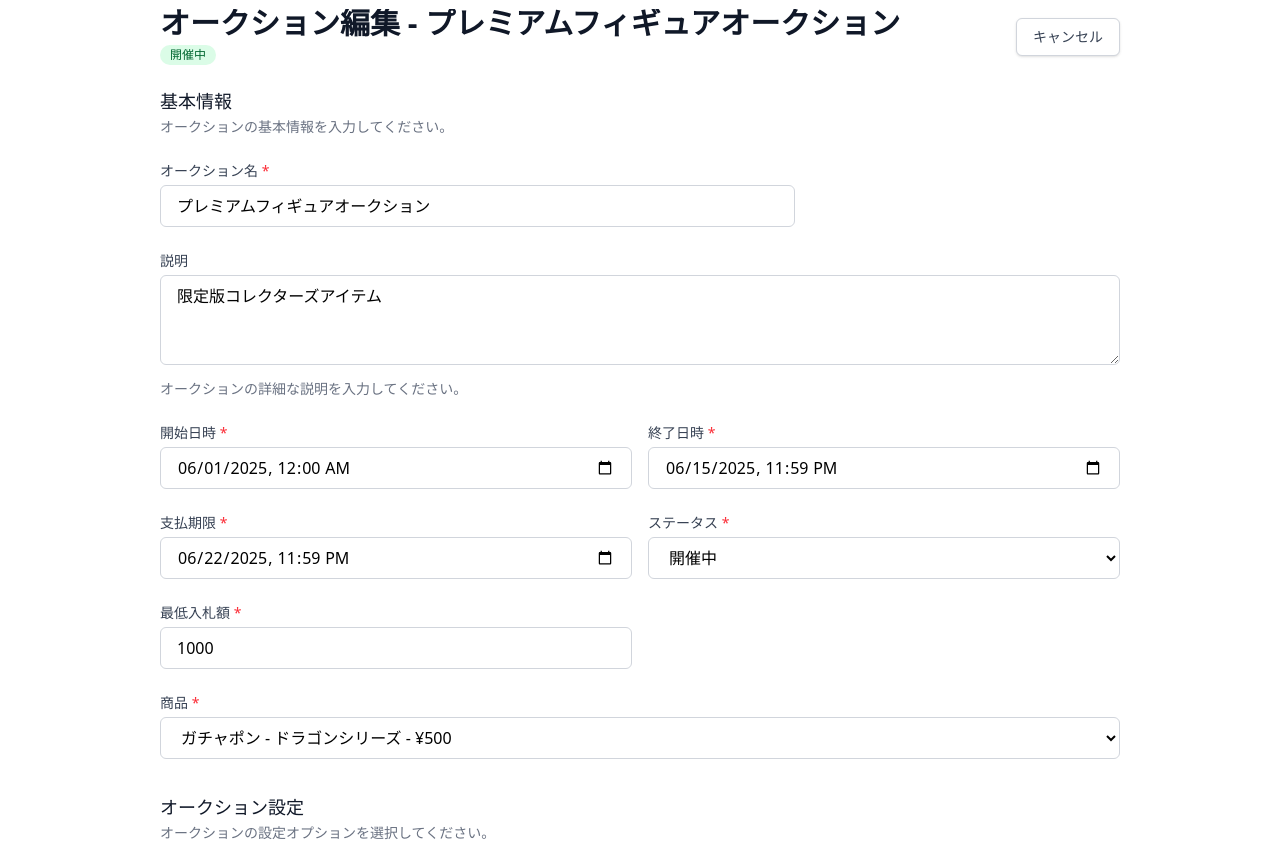
Test: オークション編集ページ › handleSubmit機能 › 最低入札額が1未満の場合、エラーメッセージが表示されること
The width and height of the screenshot is (1280, 868).
Replace the text in the number field labelled "最低入札額 *" with "0" at coordinates (396, 648), box top-left (160, 627), bottom-right (632, 669)
(page scrolled)
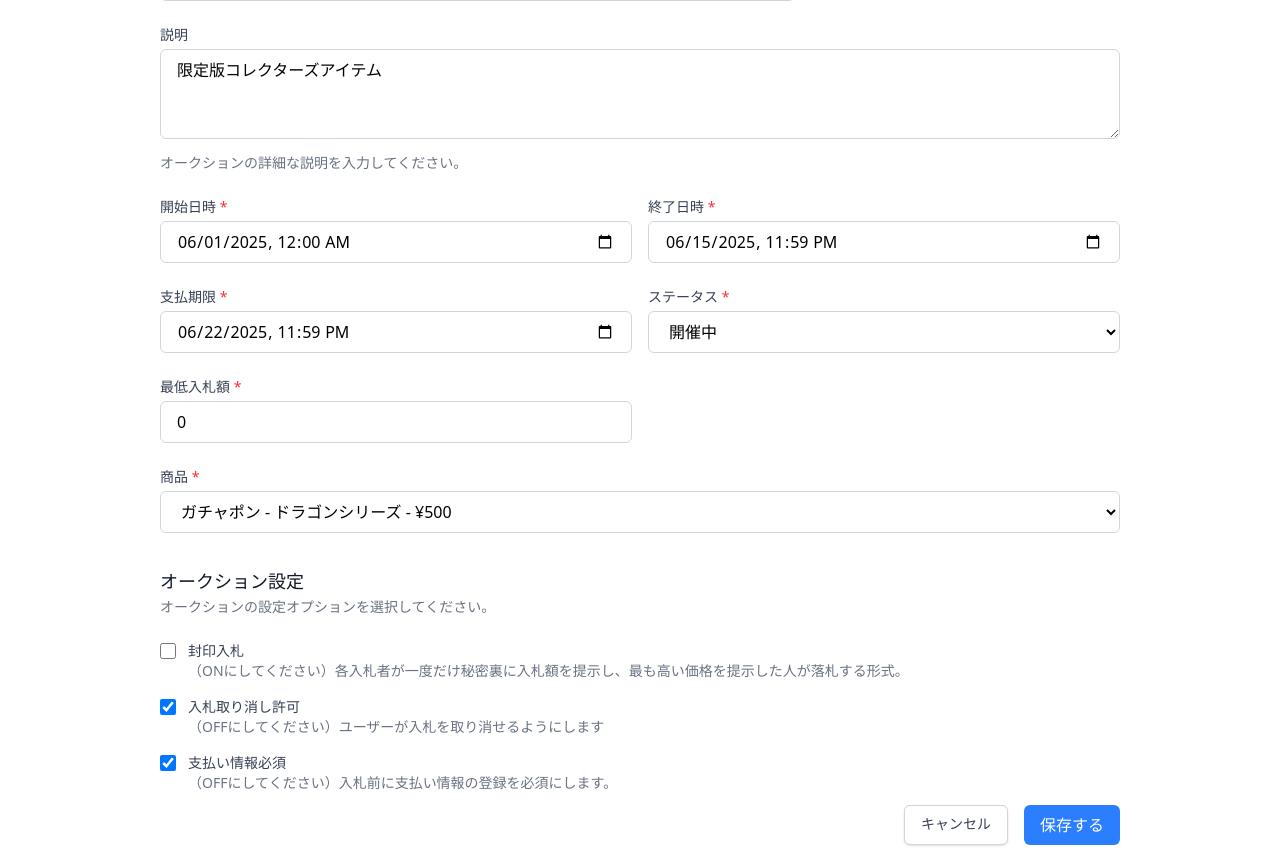
Click the button "保存する" at coordinates (1072, 825), box top-left (1024, 805), bottom-right (1120, 845)
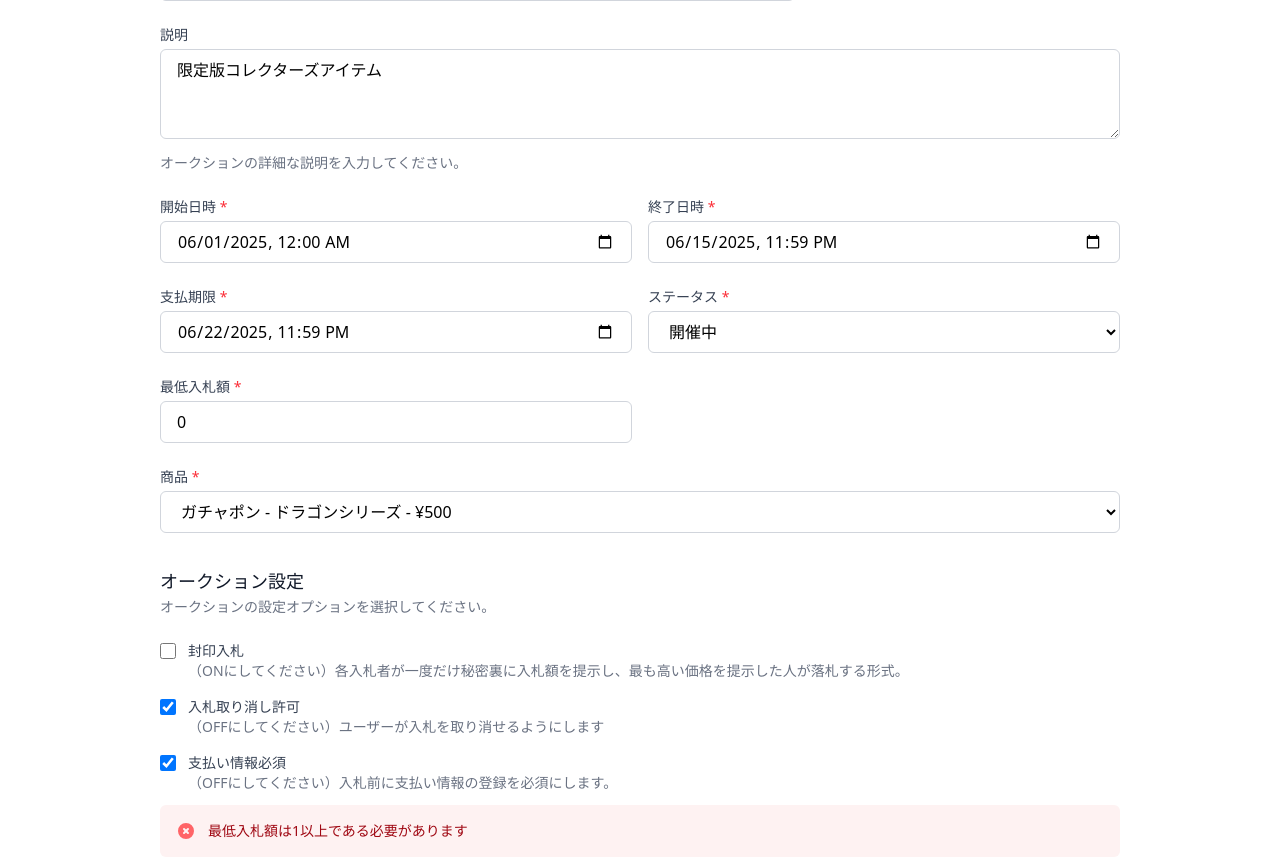
Now the heading "最低入札額は1以上である必要があります" is shown, box top-left (208, 821), bottom-right (468, 841)
